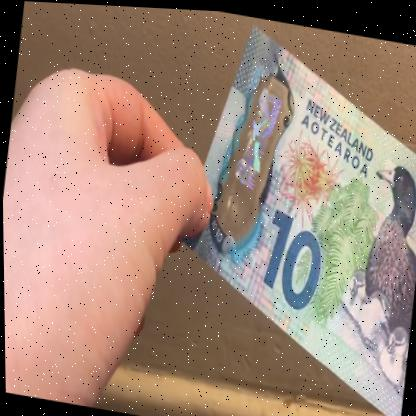10F: (226, 75, 286, 203)
